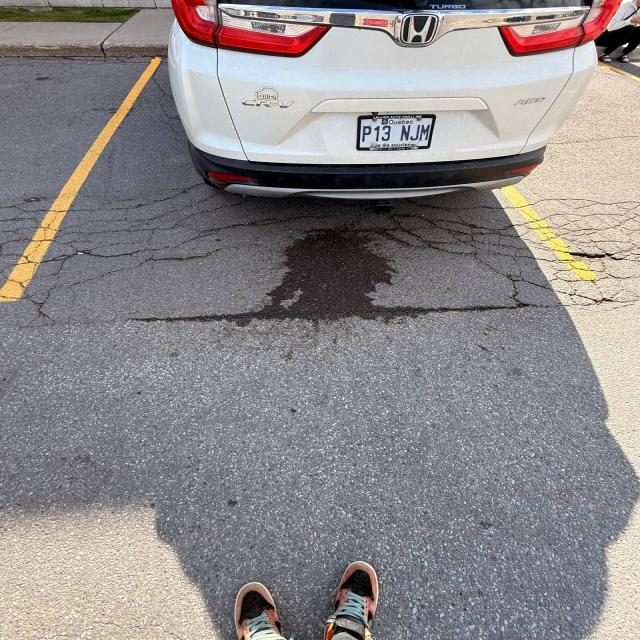plaque: (357, 115, 435, 150)
